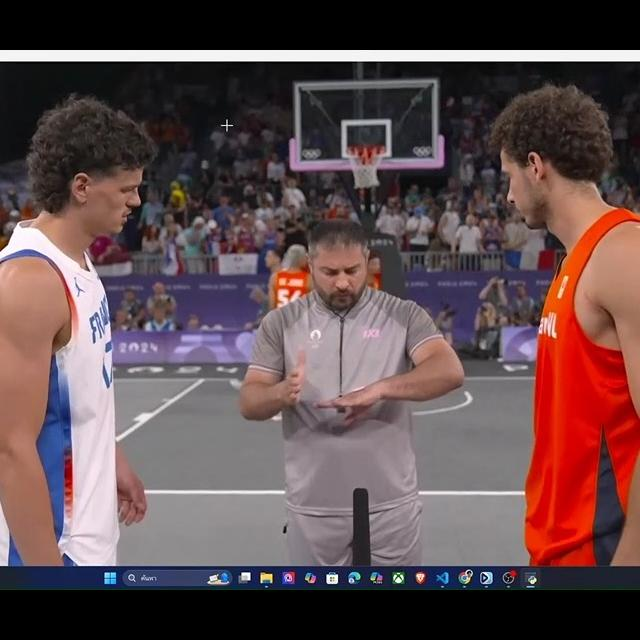hoop: (345, 147, 386, 188)
